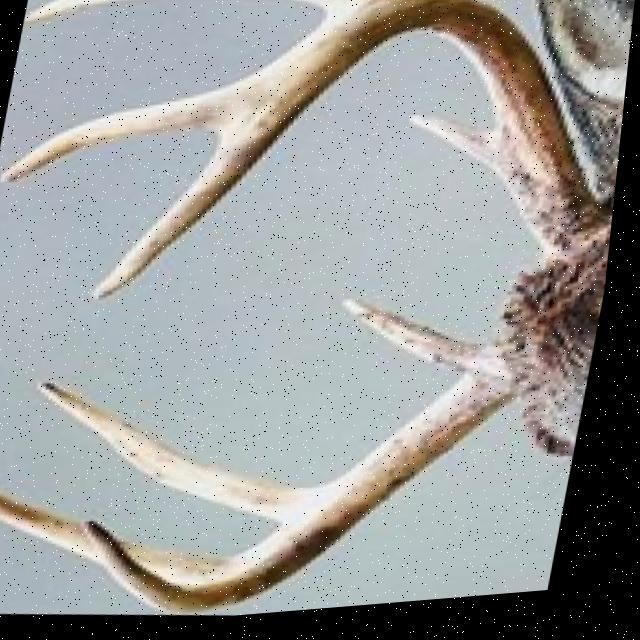L-F: (88, 349, 529, 620)
L-G1: (345, 302, 499, 382)
L-G2: (39, 379, 332, 526)
R-F: (95, 0, 619, 302)
R-G1: (409, 118, 504, 182)
R-G2: (22, 0, 370, 29)
R-G3: (0, 90, 228, 186)
